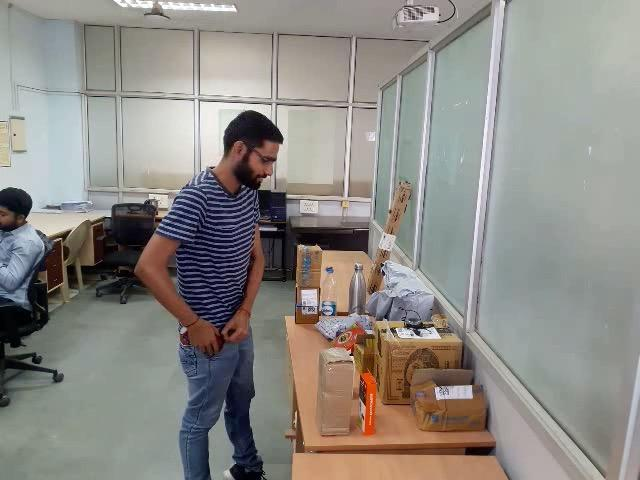shoplifting: (148, 292, 277, 384)
